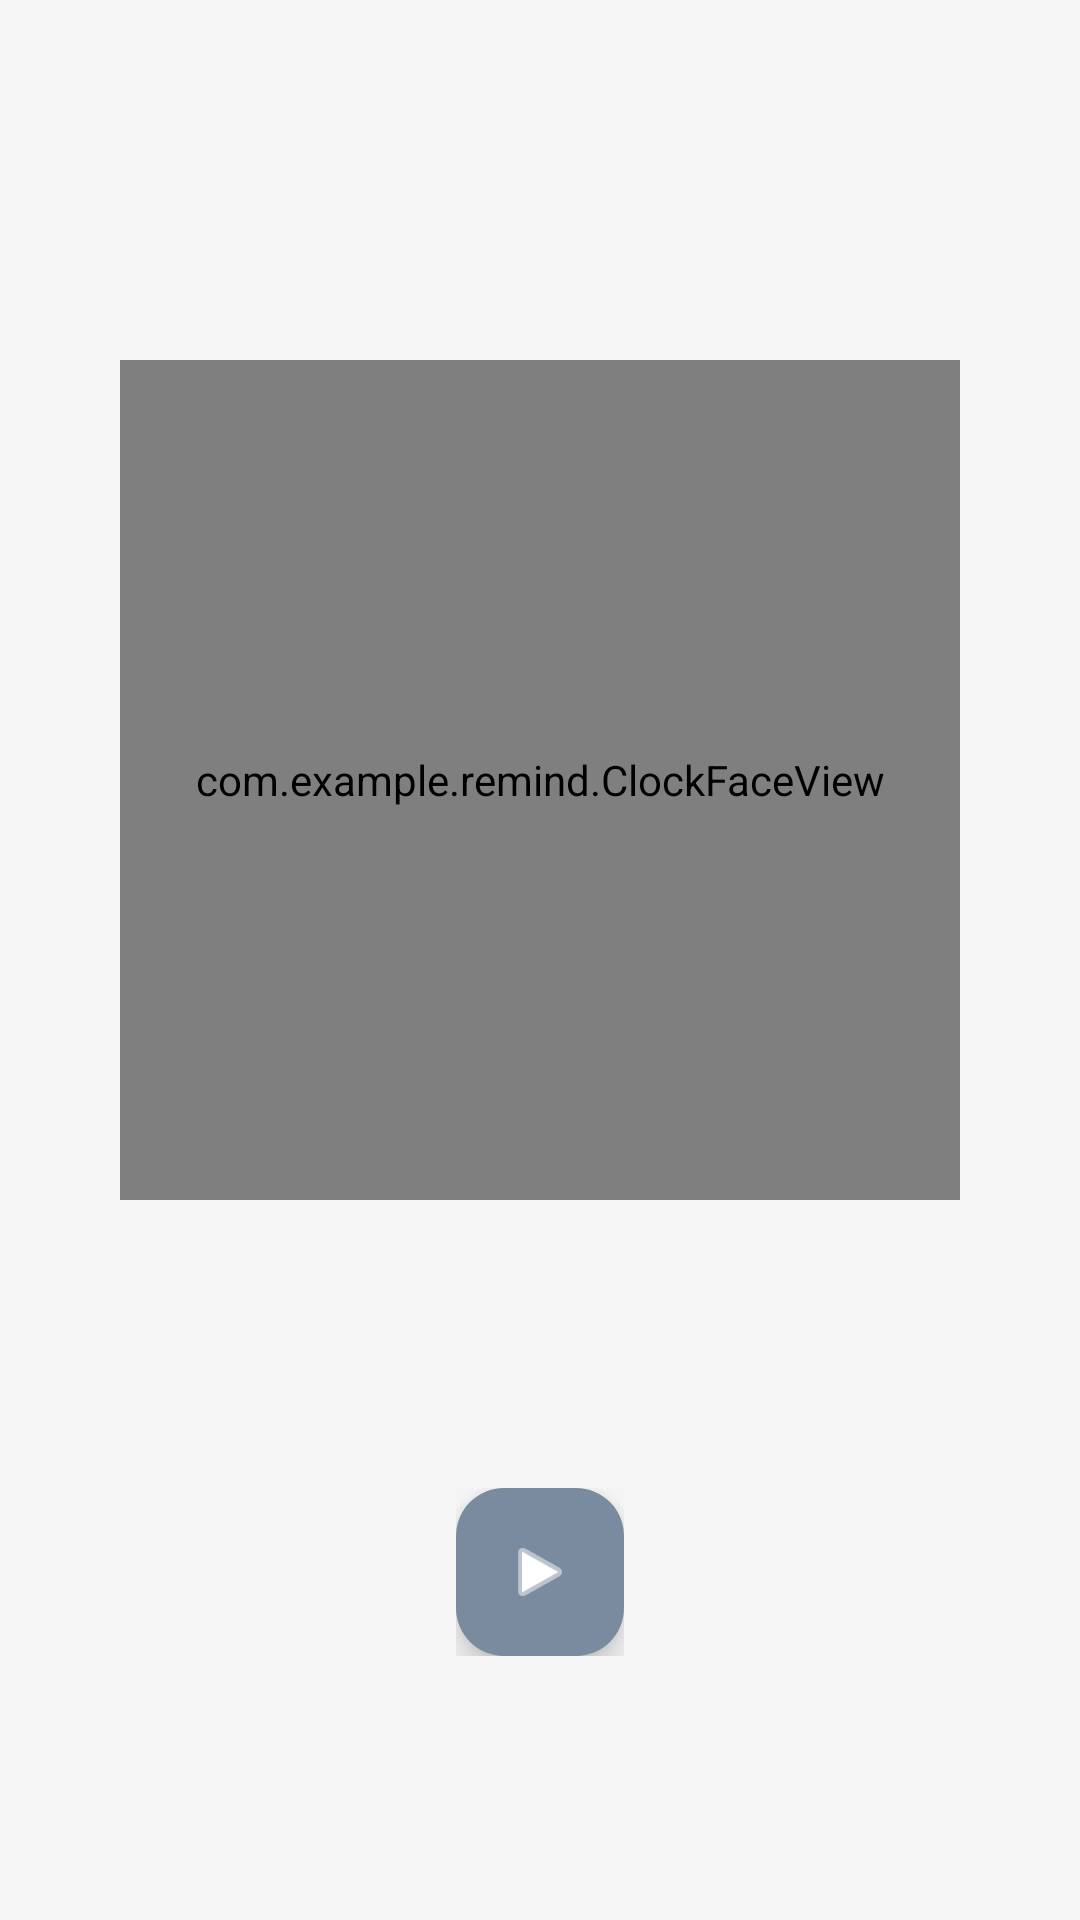

Named icons in this screenshot (1080*1920) and their bounding boxes, (x1, y1, x2, y2):
play: (456, 1488, 624, 1656)
